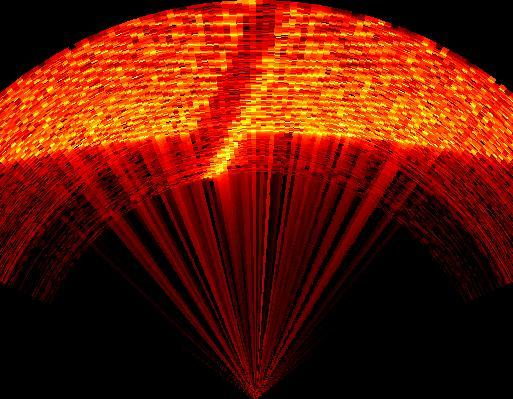pipe: (194, 0, 308, 179)
